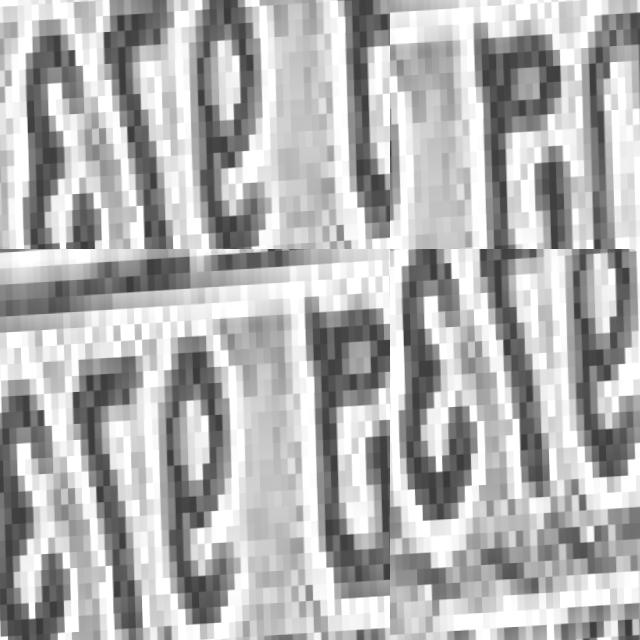license-plate: (390, 249, 640, 640), (0, 0, 390, 249), (0, 497, 390, 640)
